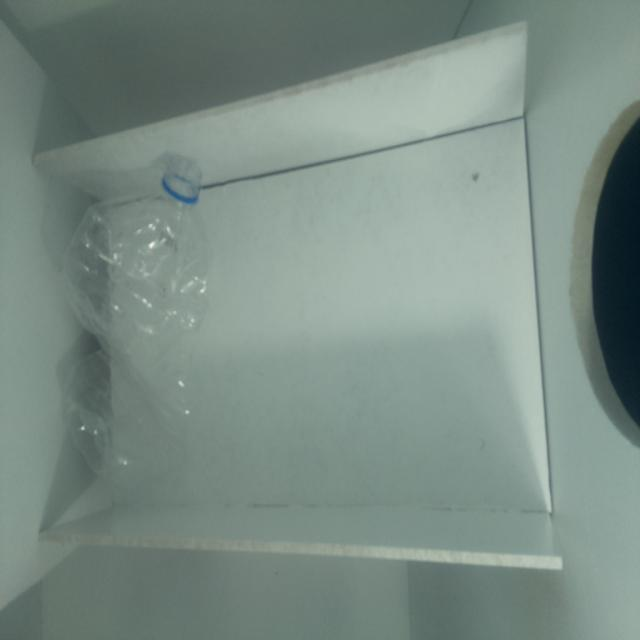Anorganik: (57, 150, 224, 485)
